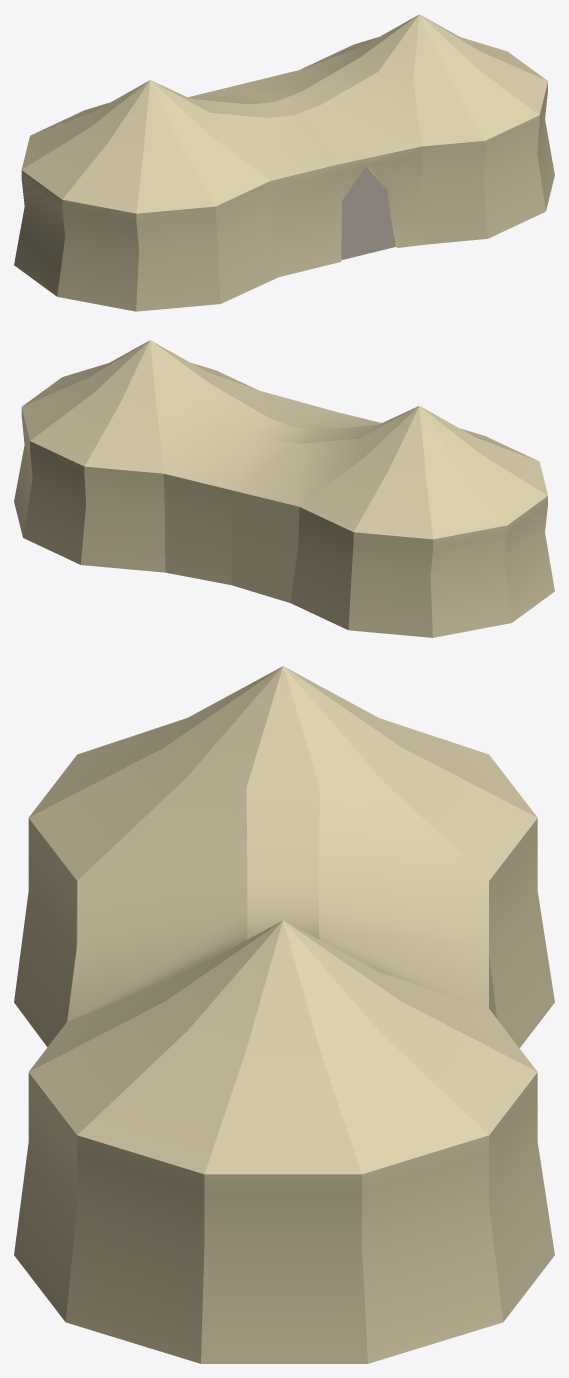
The model's file is Circus_Tent_01.fbx.
The picture shows the model from 3 angles, top to bottom: view 1: azimuth 30°, elevation 25°; view 2: azimuth 150°, elevation 25°; view 3: azimuth 270°, elevation 25°; orthographic projection. The views are drawn at different scales.
Parts seen in each view (by area): view 1: Circus_Tent_01; view 2: Circus_Tent_01; view 3: Circus_Tent_01.
Boxes of the visible parts, x1,y1,x2,y2 form: Circus_Tent_01: (14,14,554,311); Circus_Tent_01: (14,340,554,637); Circus_Tent_01: (14,666,554,1363).
Size of the model in its own units: 26.72 by 8.89 by 12.99.
